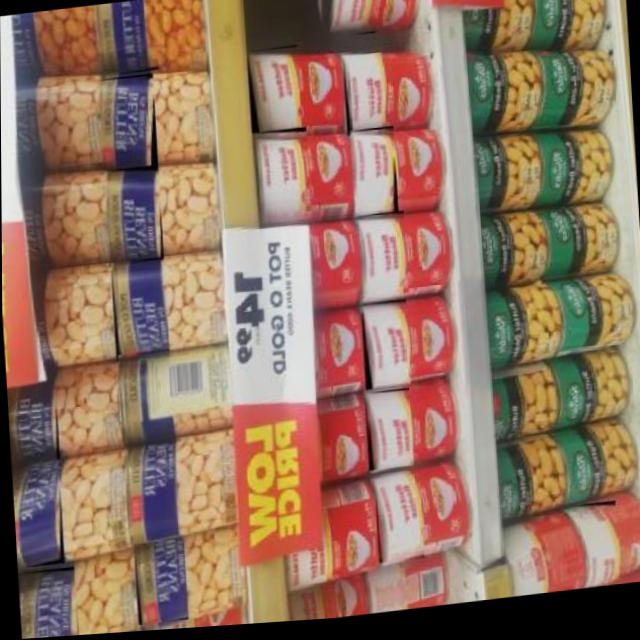Beans: (124, 441, 188, 549), (104, 165, 166, 270), (249, 131, 312, 232), (110, 259, 170, 365), (97, 75, 159, 175), (10, 457, 64, 570), (115, 351, 175, 445), (246, 50, 303, 146), (92, 0, 159, 81), (133, 538, 189, 630), (353, 216, 409, 308), (6, 375, 60, 467), (349, 130, 398, 227), (361, 304, 412, 396), (374, 478, 424, 570), (16, 567, 79, 639), (569, 509, 620, 597), (363, 393, 412, 478), (342, 57, 387, 143), (326, 0, 377, 44)
